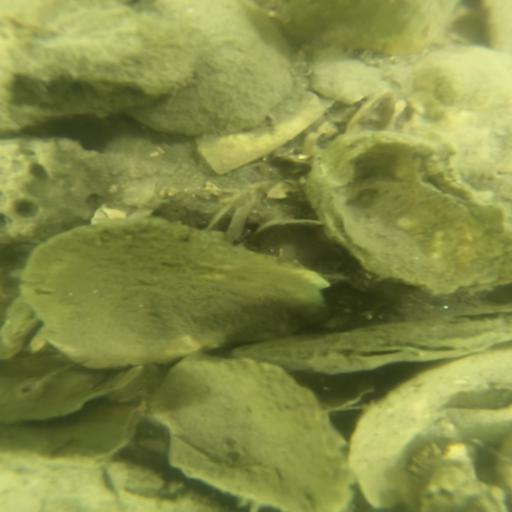Oyster-Closed: (21, 219, 335, 372), (151, 356, 361, 512), (346, 345, 512, 511), (121, 1, 297, 136), (229, 309, 512, 379), (1, 1, 198, 99), (268, 1, 462, 57), (3, 399, 153, 471), (1, 358, 146, 429)
